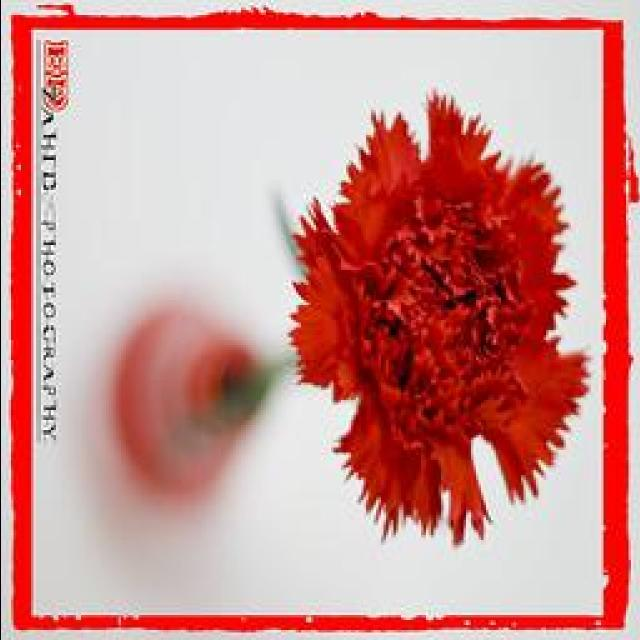carnation: (280, 98, 596, 562)
